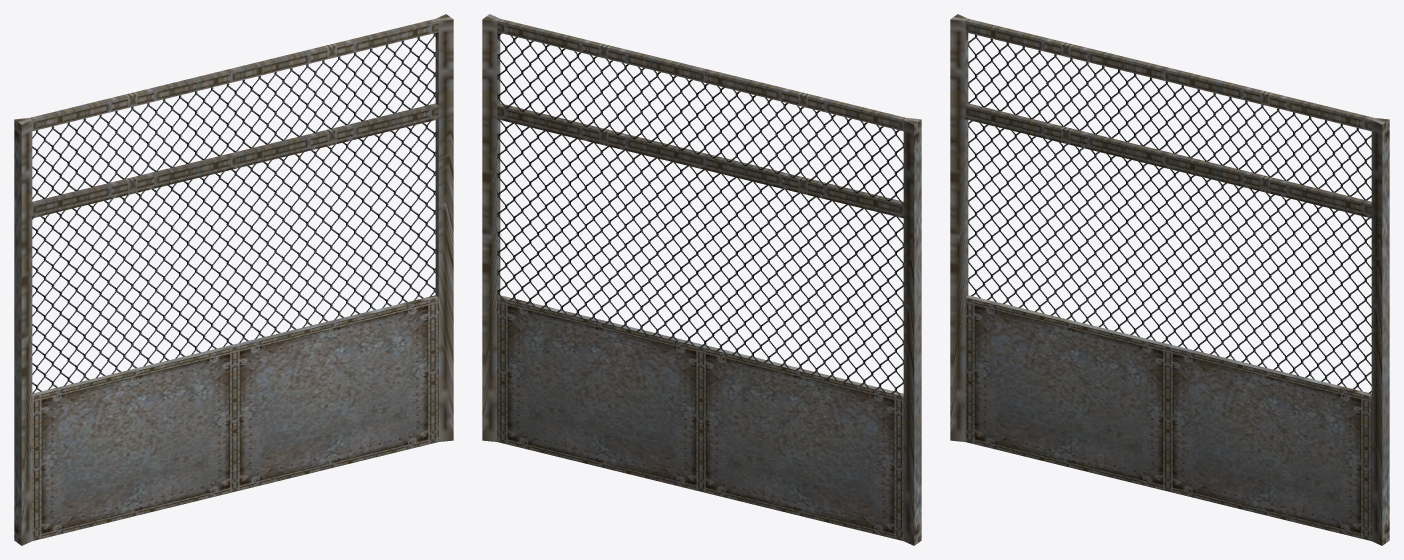
File: M10_Z1_ChainGate_Open1.glb
3 renders of one model, left to right at view 1: azimuth 30°, elevation 25°; view 2: azimuth 150°, elevation 25°; view 3: azimuth 330°, elevation 25°, orthographic.
Visible parts, largest first — view 1: M10_Z1_CHAINGATE_OPEN1; view 2: M10_Z1_CHAINGATE_OPEN1; view 3: M10_Z1_CHAINGATE_OPEN1.
Part boxes in pixels (box(x1,y1,x2,y2)): M10_Z1_CHAINGATE_OPEN1: box(14, 14, 453, 545); M10_Z1_CHAINGATE_OPEN1: box(482, 14, 921, 545); M10_Z1_CHAINGATE_OPEN1: box(950, 14, 1389, 545).
Bounding box in the file's own units: 2 × 1.86 × 0.06.
2 materials, 2 textured.
